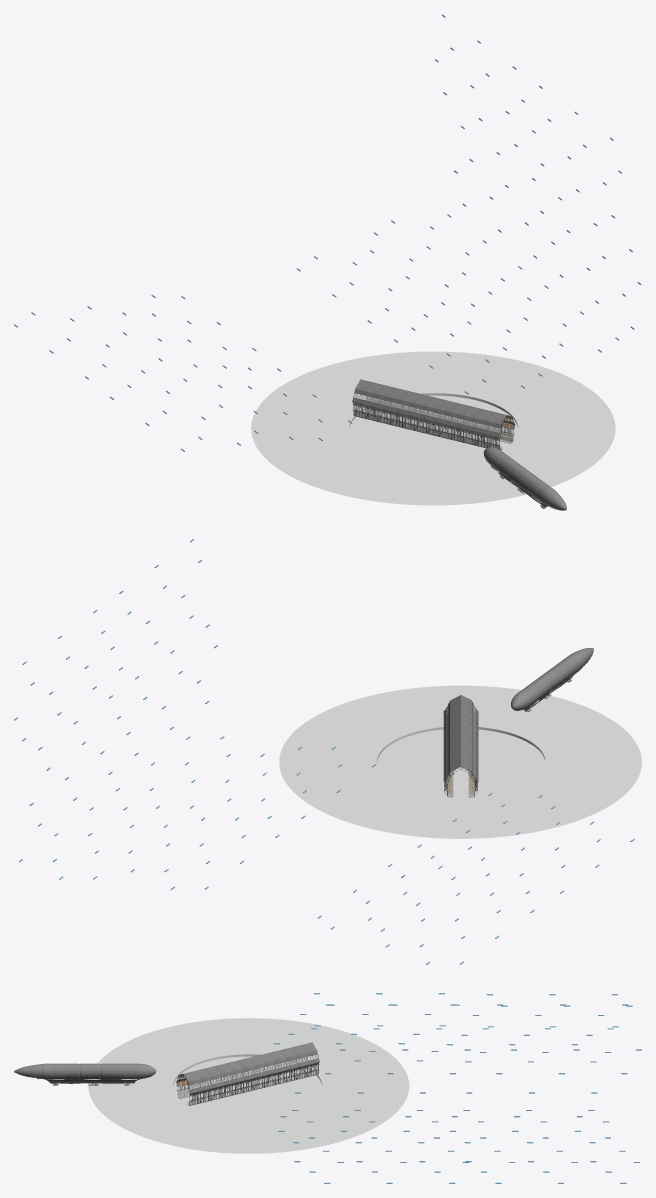
File: example_10.glb
3 views of the same model, one above another, from view 1: azimuth 30°, elevation 25°; view 2: azimuth 150°, elevation 25°; view 3: azimuth 270°, elevation 25° (orthographic). The views are drawn at different scales.
Visible parts, largest first — view 1: Cube.001, Cube.026, Luftschiff, Plane.003, Cube.036; view 2: Cube.001, Cube.026, Luftschiff, Plane.003; view 3: Cube.001, Cube.026, Luftschiff, Plane.003, Cube.036.
Boxes of the visible parts, bbox=[...] form: Cube.001: bbox=[251, 351, 615, 505]; Cube.026: bbox=[352, 379, 515, 450]; Luftschiff: bbox=[483, 447, 566, 510]; Plane.003: bbox=[14, 14, 641, 451]; Cube.036: bbox=[353, 393, 513, 444]; Cube.001: bbox=[279, 685, 641, 838]; Cube.026: bbox=[443, 695, 478, 797]; Luftschiff: bbox=[511, 648, 593, 711]; Plane.003: bbox=[14, 539, 634, 964]; Cube.001: bbox=[88, 1018, 409, 1153]; Cube.026: bbox=[176, 1042, 319, 1105]; Luftschiff: bbox=[14, 1063, 156, 1085]; Plane.003: bbox=[273, 993, 641, 1183]; Cube.036: bbox=[178, 1055, 318, 1099].
Size of the model in its own units: 372 by 164 by 520.
Materials: 10 (4 with a texture image).
